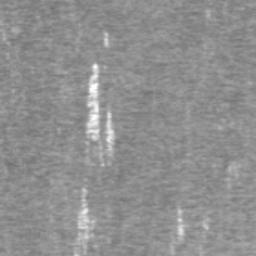White rust: (86, 64, 100, 141), (77, 188, 92, 231), (105, 112, 115, 146), (177, 210, 184, 236), (103, 30, 110, 48)
